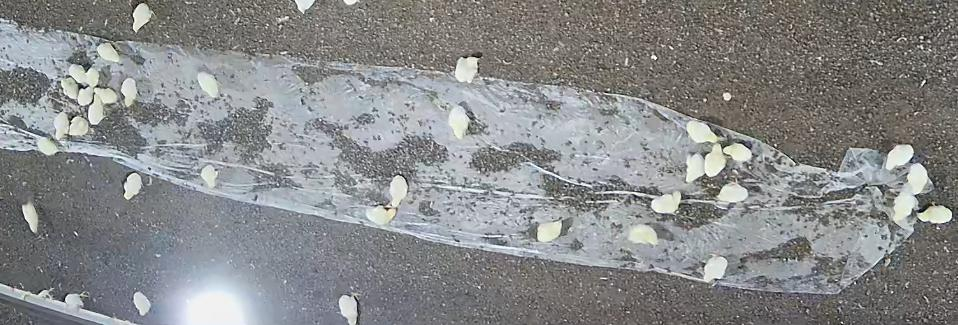chick: (449, 103, 471, 143), (702, 253, 729, 285), (452, 55, 482, 83), (717, 179, 748, 206), (885, 144, 914, 171), (131, 1, 155, 33), (906, 161, 929, 194), (686, 121, 720, 143), (337, 294, 361, 325), (894, 191, 918, 222), (684, 152, 707, 183), (651, 191, 680, 215), (915, 204, 951, 223), (536, 220, 565, 243), (705, 143, 725, 176), (21, 201, 41, 234), (122, 171, 144, 201), (366, 204, 396, 226), (723, 141, 753, 162), (629, 224, 659, 245), (389, 175, 408, 207), (87, 95, 106, 126), (199, 163, 220, 191), (196, 71, 219, 96), (96, 42, 121, 63), (134, 290, 151, 318), (66, 291, 89, 311), (53, 113, 70, 140), (122, 78, 139, 105), (36, 138, 60, 156), (69, 117, 90, 137), (62, 77, 81, 99), (76, 84, 94, 104), (96, 88, 117, 105), (69, 64, 87, 83), (86, 68, 101, 87)
